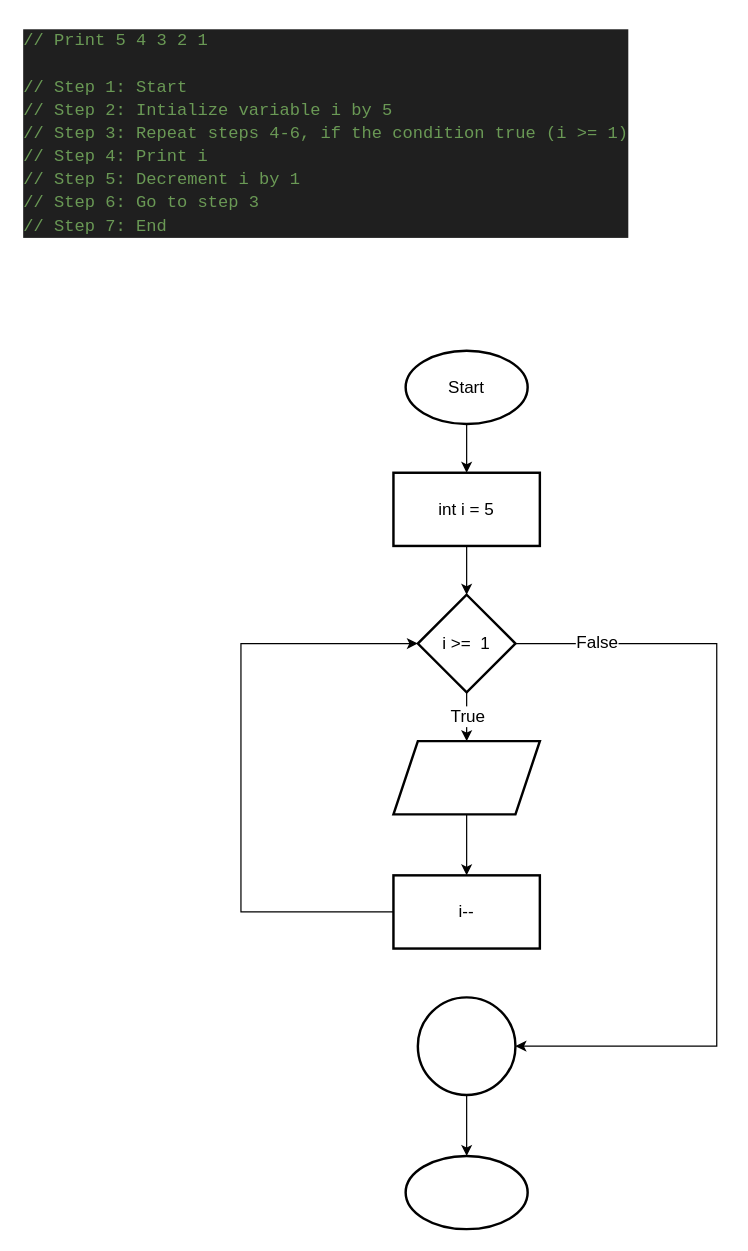
Image size: 748x1251. Some labels were removed from this diagram. Each missing label, with the centre of its shape:
"End" belongs at pixel 466 1192.
"Print i" belongs at pixel 466 777.
